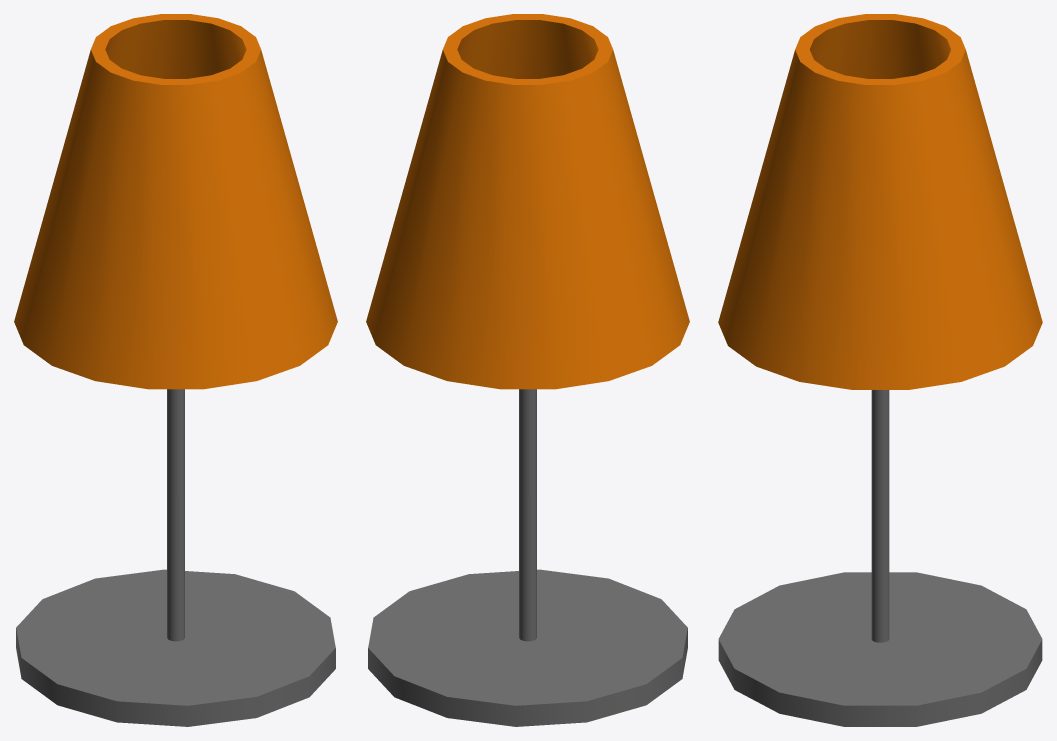
Rendered from StandardLight.fbx.
3 views of the same model, side by side, from view 1: azimuth 30°, elevation 25°; view 2: azimuth 150°, elevation 25°; view 3: azimuth 270°, elevation 25° (orthographic).
Parts seen in each view (by area): view 1: StandardLamp; view 2: StandardLamp; view 3: StandardLamp.
Part boxes in pixels (x1,y1,x2,y2): StandardLamp: [14, 14, 337, 726]; StandardLamp: [366, 14, 689, 726]; StandardLamp: [718, 14, 1042, 726].
Size of the model in its own units: 26.55 by 55.97 by 26.96.
